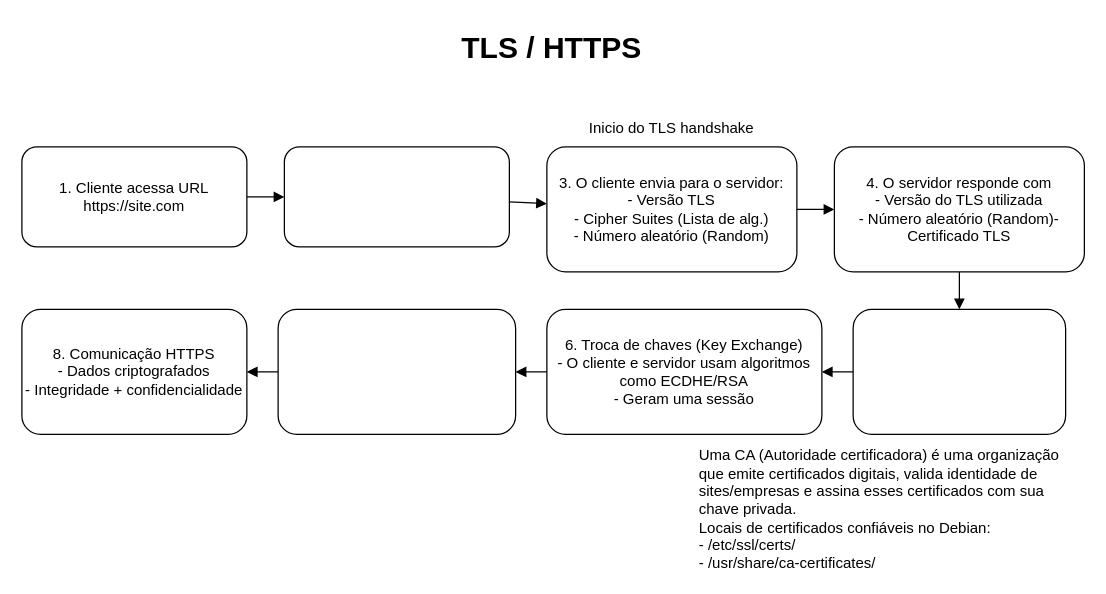
Image size: 1106x594. Some labels were removed from this diagram. Here are the shapes that lost their labels. From the top down, the box of each, then its label:
(283, 146, 509, 247): 2. DNS resolve domínio → IP do servidor
(277, 308, 516, 434): 7. Canal seguro estabelecido (Handshake concluído)
(852, 308, 1066, 434): 5. Validação do Certificado - CA confiável - Validade - Domínio
